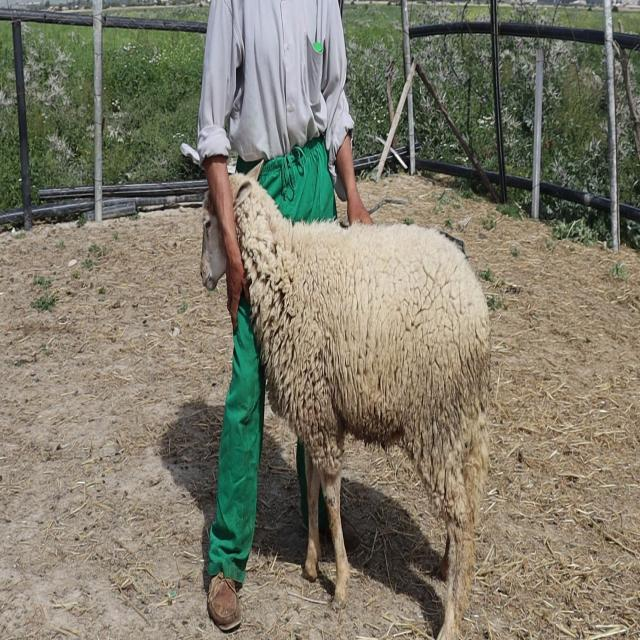Score_4: (229, 163, 491, 639)
